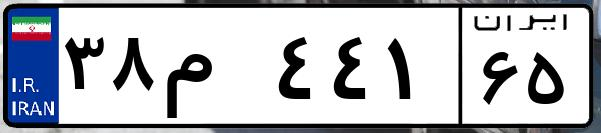1: (385, 28, 445, 110)
3: (57, 26, 110, 100)
4: (270, 28, 330, 110), (330, 28, 385, 110)
5: (525, 38, 570, 115)
6: (475, 38, 525, 113)
8: (110, 28, 158, 98)
م: (158, 20, 270, 120)
